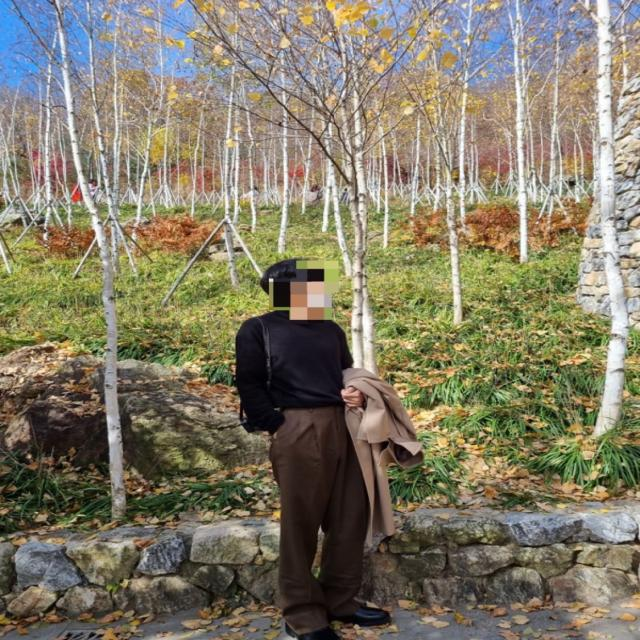longsleeve: (237, 315, 357, 436)
slacks: (269, 400, 372, 630)
